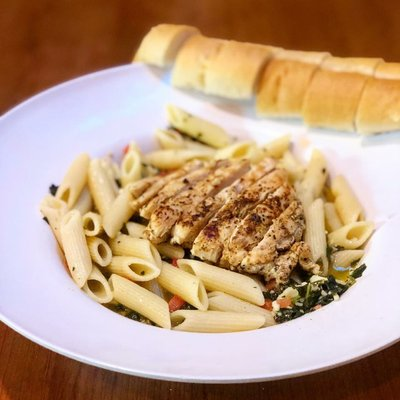curry: (0, 14, 400, 400)
